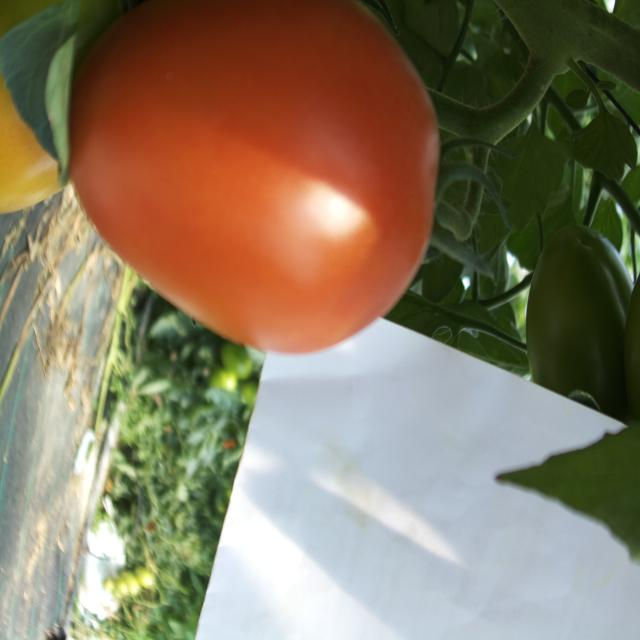kirmizi: (38, 17, 453, 341)
